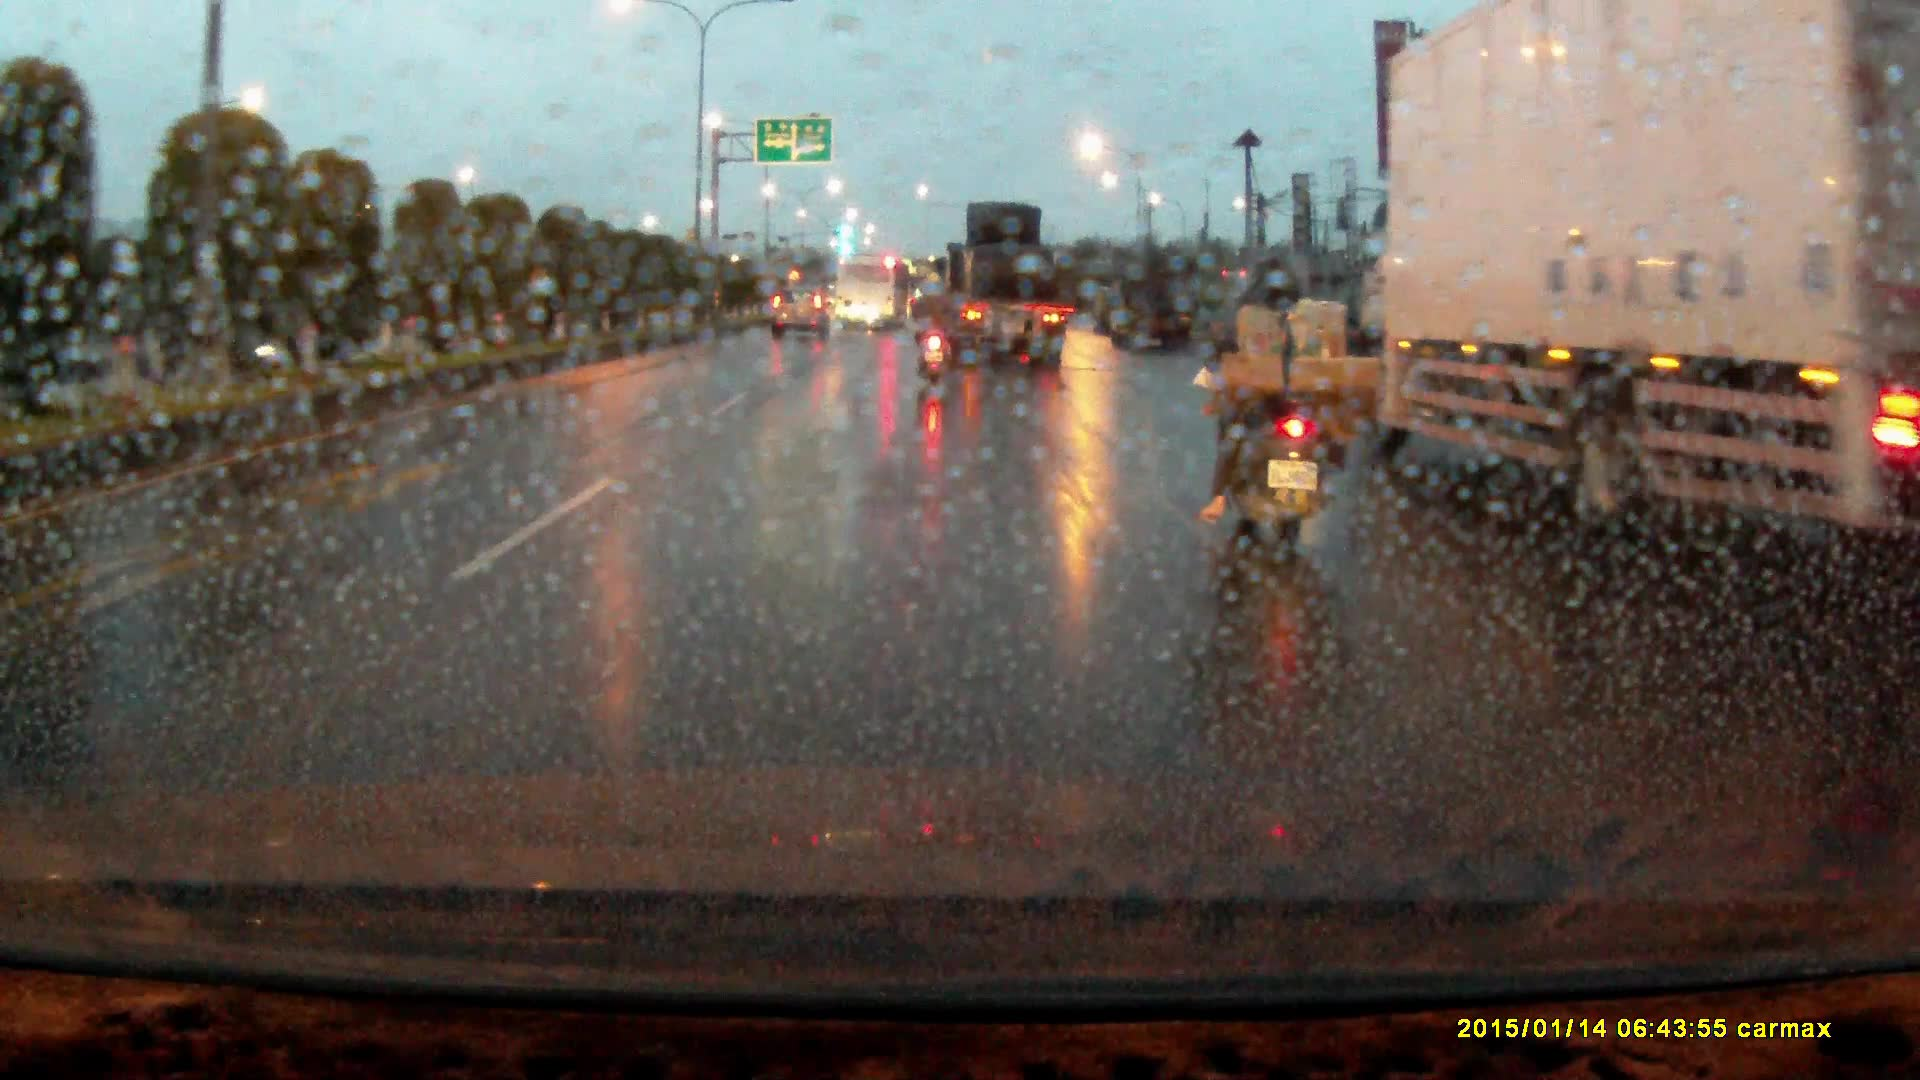rider: (1193, 253, 1390, 580), (911, 285, 955, 392)
vehicle: (1359, 1, 1920, 553), (925, 199, 1065, 368), (1111, 262, 1194, 354), (836, 254, 909, 330), (772, 287, 830, 341), (1092, 282, 1127, 333)
